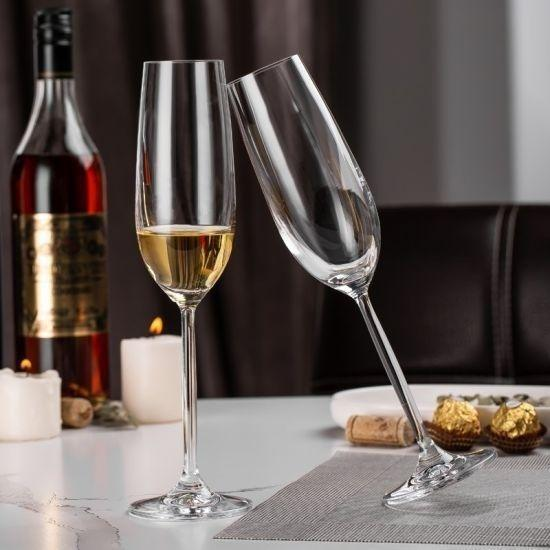bottle-glass: (4, 4, 109, 403)
glass-wine: (226, 56, 496, 508), (130, 58, 252, 521)
